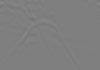hyperbola: (13, 16, 81, 66)
